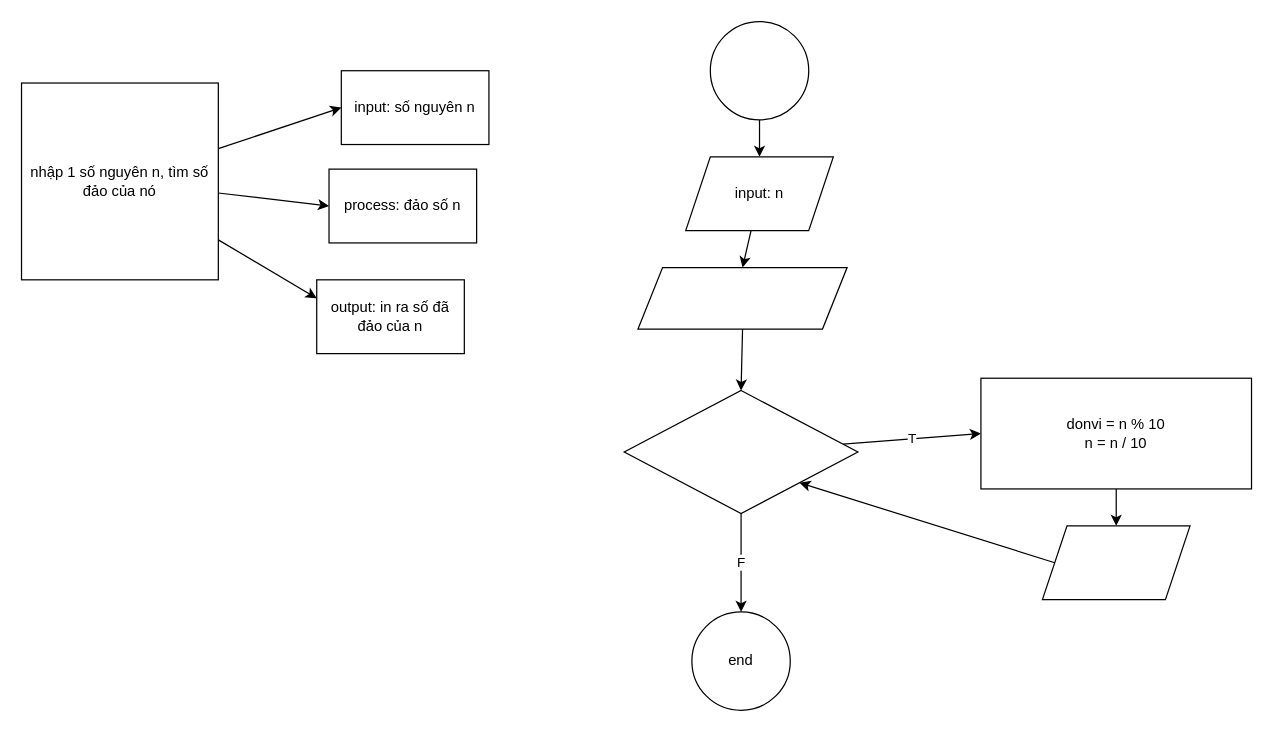
This 1273x732 diagram has some shape labels left out. The shapes that lost their labels are listed below. From the top down, each one's centre as x and y in pixels, then its label:
At point 759,70: "start".
At point 742,297: "print: So dao cua n la".
At point 740,451: "n > 0".
At point 1115,562: "print: donvi".
